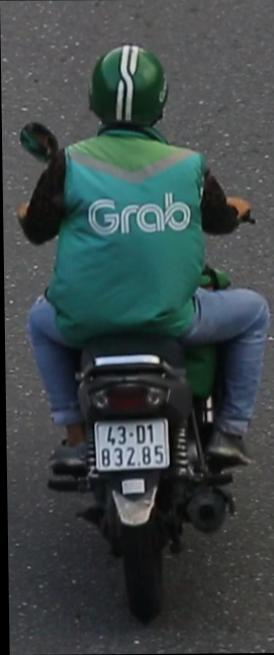LP: (90, 410, 174, 476)
helmet: (84, 38, 171, 149)
